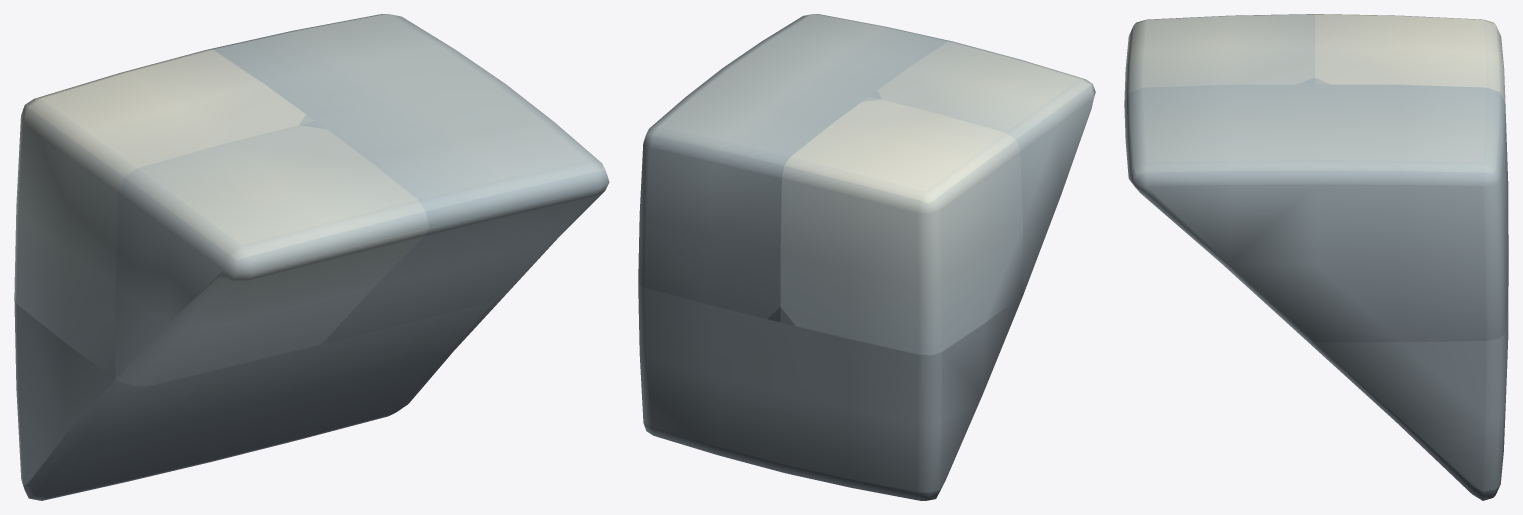
Rendered from Quartz_2x2_SlopeUnder.fbx.
3 views of the same model, side by side, from view 1: azimuth 30°, elevation 25°; view 2: azimuth 150°, elevation 25°; view 3: azimuth 270°, elevation 25° (orthographic). The views are drawn at different scales.
Parts seen in each view (by area): view 1: Quartz_2x2_SlopeUnder_LOD0; view 2: Quartz_2x2_SlopeUnder_LOD0; view 3: Quartz_2x2_SlopeUnder_LOD0.
Part boxes in pixels (<box>): Quartz_2x2_SlopeUnder_LOD0: <box>14,14,609,500</box>; Quartz_2x2_SlopeUnder_LOD0: <box>638,14,1095,500</box>; Quartz_2x2_SlopeUnder_LOD0: <box>1124,14,1508,500</box>.
Size of what is drawn, in the model's own units: 1.09 by 1.08 by 1.08.
